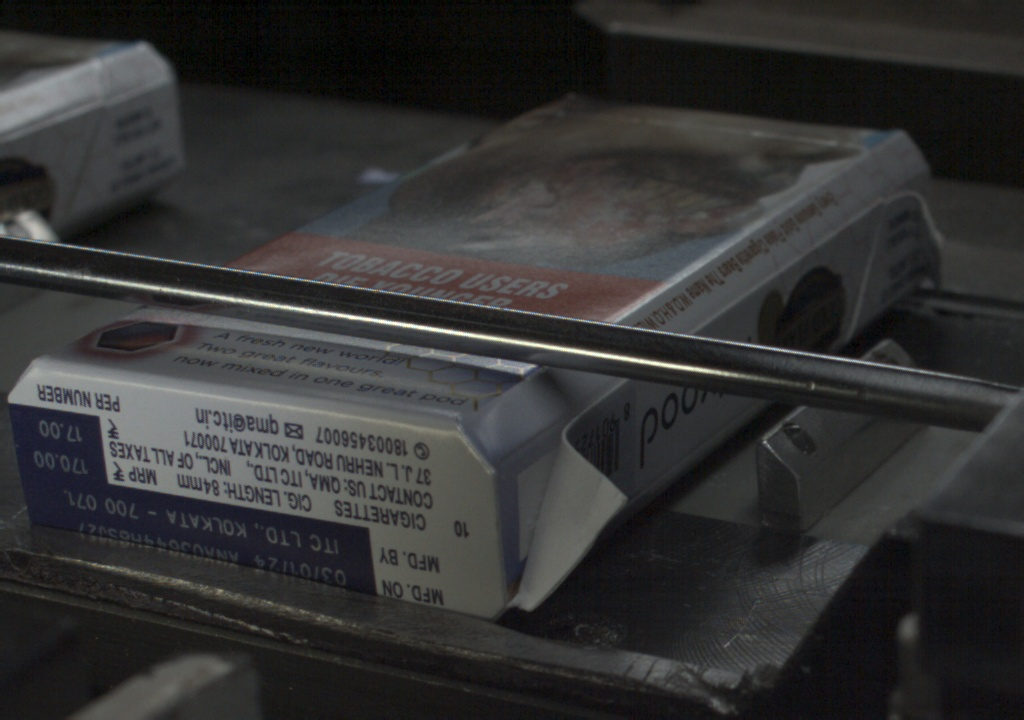g_bottom: (8, 363, 506, 620)
g_label: (23, 481, 377, 596)
g_lmiter: (694, 265, 786, 332), (792, 205, 878, 260)
ng_lmiter: (506, 442, 628, 603)
ng_miter: (892, 179, 948, 267)
price: (13, 408, 107, 481)
